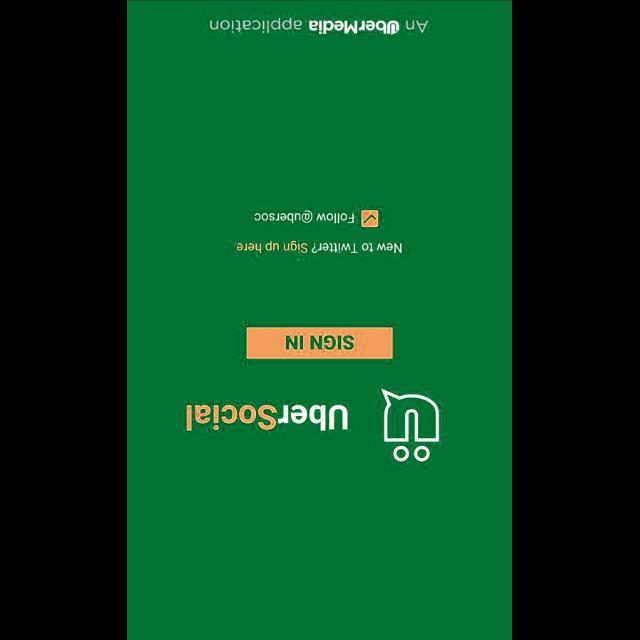checkbox: (362, 210, 378, 227)
image: (380, 387, 440, 461), (187, 404, 349, 431), (210, 18, 428, 34)
text: (237, 240, 403, 254), (256, 210, 354, 223)
textbutton: (247, 327, 393, 359)
